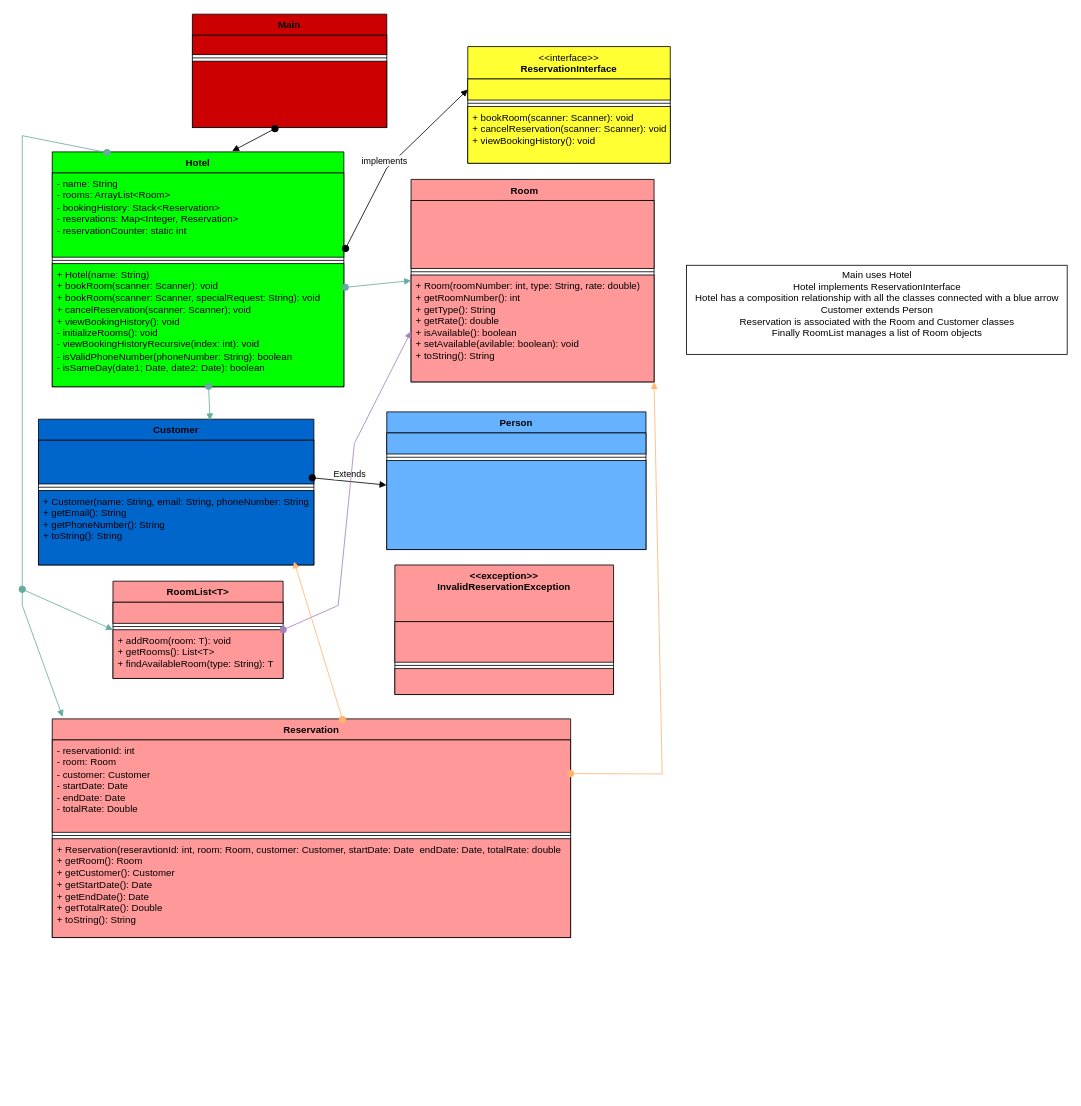
Image size: 1081x1106. Some labels were removed from this diagram. The shapes that lost their labels are listed below. From the top down, each one's centre as x and y in pixels, then its label:
At (289,94): "+ main(args: String[]): void".
At (532,234): "- roomNumber: int - type: String - rate: double - isAvailable: boolean".
At (176,461): "- email: String - phoneNumber: String".
At (516,443): "- name: String".
At (516,505): "+ Person(name: String) + getName(): String".
At (197,612): "- rooms: List<T>".
At (504,681): "+ InvalidReservationException(message: String)".
